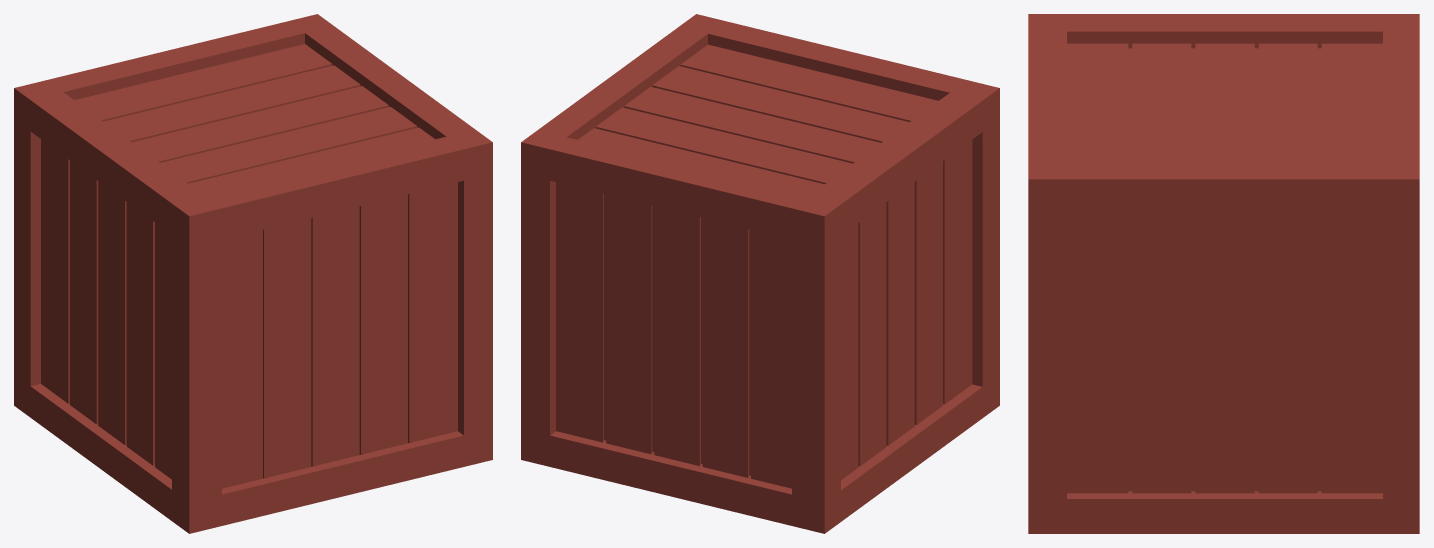
File: Crate.fbx
3 views of the same model, side by side, from view 1: azimuth 30°, elevation 25°; view 2: azimuth 150°, elevation 25°; view 3: azimuth 270°, elevation 25° (orthographic). The views are drawn at different scales.
Visible parts, largest first — view 1: Crate; view 2: Crate; view 3: Crate.
Boxes of the visible parts, x1,y1,x2,y2 form: Crate: (14,14,492,533); Crate: (521,14,999,533); Crate: (1028,14,1419,533).
Size of the model in its own units: 200 by 200 by 200.
